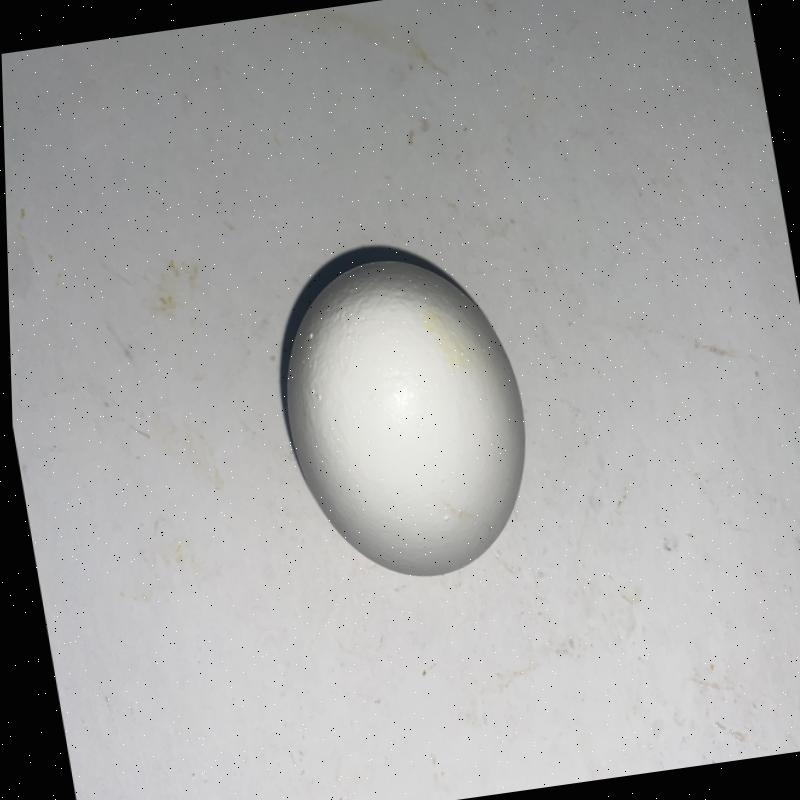egg shell: (279, 241, 529, 576)
